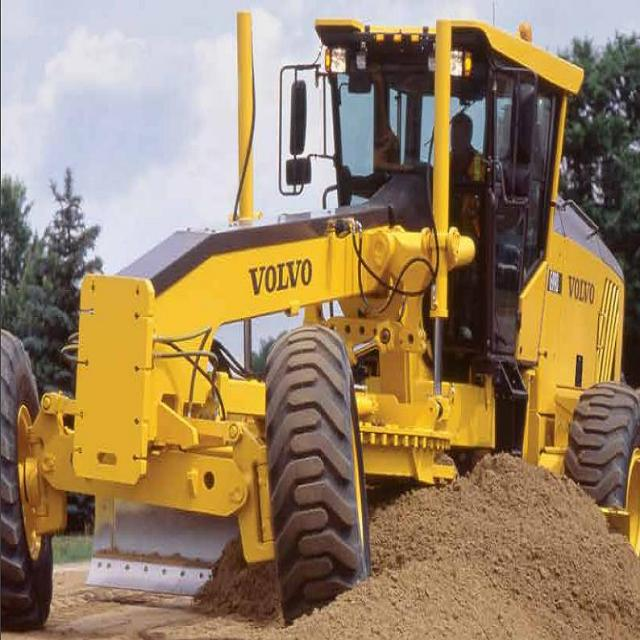Grader: (2, 7, 640, 634)
